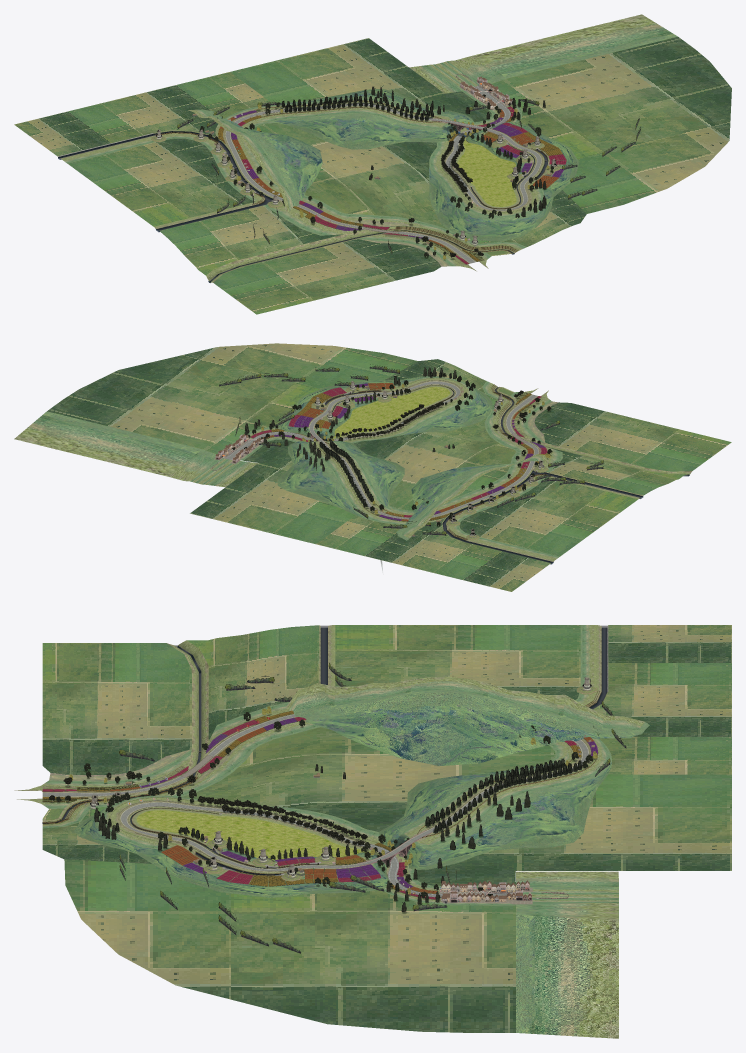
Rendered from stage-tuli.glb.
3 renders of one model, top to bottom at view 1: azimuth 30°, elevation 25°; view 2: azimuth 150°, elevation 25°; view 3: azimuth 270°, elevation 25°, orthographic. The views are drawn at different scales.
Parts seen in each view (by area): view 1: part 1 chunk 3,-3, part 1 chunk -2,-5, part 1 chunk 0,-3, part 1 chunk -2,-1, part 1 chunk 1,-5, part 1 chunk 3,-5, part 1 chunk 0,-5, part 1 chunk -3,-2, part 1 chunk 1,-2, part 1 chunk 1,-3, part 1 chunk -1,-4, part 1 chunk -2,-4 (+14 smaller); view 2: part 1 chunk 3,-3, part 1 chunk -2,-5, part 1 chunk 0,-3, part 1 chunk -2,-1, part 1 chunk 3,-5, part 1 chunk 1,-5, part 1 chunk 0,-5, part 1 chunk 1,-3, part 1 chunk 1,-2, part 1 chunk -3,-2, part 1 chunk -1,-4, part 1 chunk -2,-4 (+14 smaller); view 3: part 1 chunk 3,-3, part 1 chunk -2,-5, part 1 chunk 0,-3, part 1 chunk -2,-1, part 1 chunk 1,-5, part 1 chunk 3,-5, part 1 chunk 0,-5, part 1 chunk -1,-4, part 1 chunk -3,-2, part 1 chunk -2,-4, part 1 chunk 1,-3, part 1 chunk 1,-2 (+17 smaller).
Part boxes in pixels (x1,y1,x2,y2): part 1 chunk 3,-3: (491,37,731,213); part 1 chunk -2,-5: (14,72,270,226); part 1 chunk 0,-3: (236,121,586,262); part 1 chunk -2,-1: (213,239,441,314); part 1 chunk 1,-5: (230,38,491,122); part 1 chunk 3,-5: (409,14,677,122); part 1 chunk 0,-5: (215,88,474,149); part 1 chunk -3,-2: (159,205,372,281); part 1 chunk 1,-2: (429,142,561,241); part 1 chunk 1,-3: (452,130,536,206); part 1 chunk -1,-4: (201,109,385,230); part 1 chunk -2,-4: (153,109,298,212); part 1 chunk 3,-3: (47,343,417,453); part 1 chunk -2,-5: (316,477,637,591); part 1 chunk 0,-3: (347,359,528,515); part 1 chunk -2,-1: (534,402,731,471); part 1 chunk 3,-5: (14,411,279,487); part 1 chunk 1,-5: (190,439,355,544); part 1 chunk 0,-5: (277,441,444,524); part 1 chunk 1,-3: (296,386,450,439); part 1 chunk 1,-2: (326,376,492,441); part 1 chunk -3,-2: (548,447,687,495); part 1 chunk -1,-4: (396,438,524,540); part 1 chunk -2,-4: (402,454,549,538); part 1 chunk 3,-3: (64,859,515,1032); part 1 chunk -2,-5: (335,625,731,774); part 1 chunk 0,-3: (34,720,567,863); part 1 chunk -2,-1: (42,643,191,774); part 1 chunk 1,-5: (416,774,731,885); part 1 chunk 3,-5: (383,871,618,1038); part 1 chunk 0,-5: (378,738,611,869); part 1 chunk -1,-4: (198,692,649,770); part 1 chunk -3,-2: (178,625,319,761); part 1 chunk -2,-4: (286,677,644,731); part 1 chunk 1,-3: (136,810,389,874); part 1 chunk 1,-2: (74,798,376,873).
Bounding box in the file's own units: 2717 × 357 × 2020.
135 materials, 131 textured.
